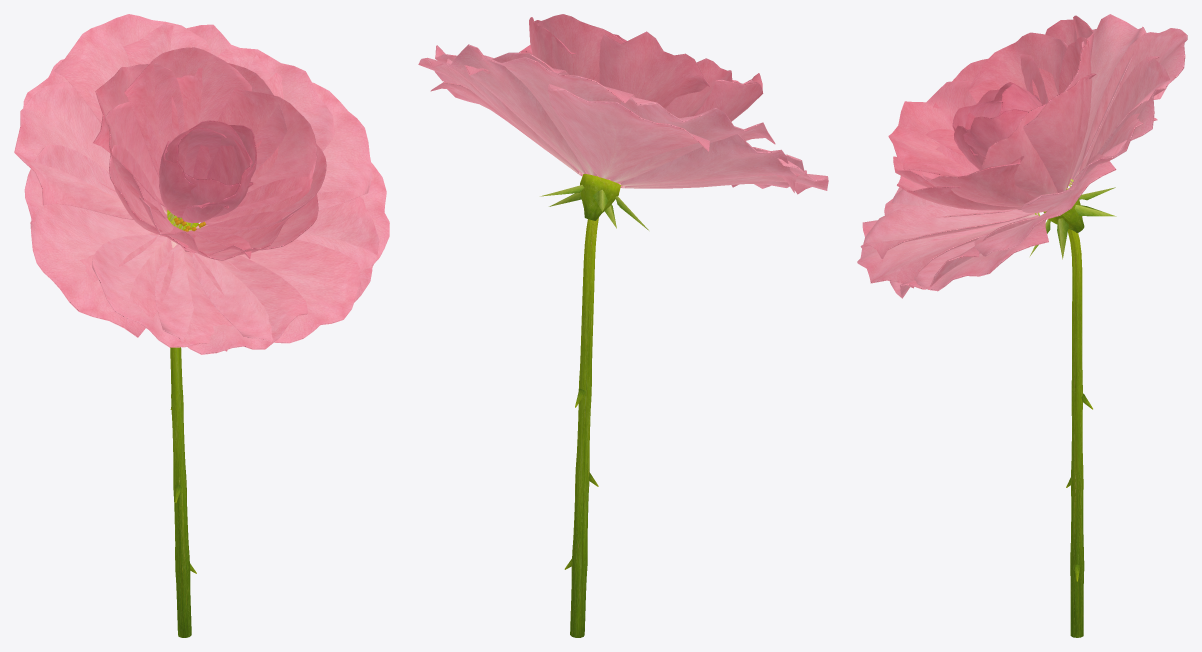
Rendered from rose_29.glb.
3 renders of one model, left to right at view 1: azimuth 30°, elevation 25°; view 2: azimuth 150°, elevation 25°; view 3: azimuth 270°, elevation 25°, orthographic. The views are drawn at different scales.
Visible parts, largest first — view 1: Petal_7_outer_03, Petal_4_outer_01, Petal_2_outer_02, Petal_6_outer_02, Petal_5_outer_04, Petal_0_outer_01, Petal_17_middle_02, Petal_19_middle_01, Petal_10_outer_01, Stem_Skinned, Petal_20_middle_03, Petal_11_outer_04 (+17 smaller); view 2: Petal_1_outer_03, Stem_Skinned, Petal_20_middle_03, Petal_3_outer_04, Petal_12_outer_02, Petal_2_outer_02, Petal_0_outer_01, Petal_19_middle_01, Hypanthium_and_five_sepals, Petal_22_middle_01, Petal_11_outer_04, Petal_4_outer_01 (+5 smaller); view 3: Petal_7_outer_03, Stem_Skinned, Petal_13_middle_03, Petal_18_middle_04, Petal_0_outer_01, Petal_21_middle_02, Petal_12_outer_02, Petal_2_outer_02, Petal_17_middle_02, Petal_16_middle_04, Petal_9_outer_03, Petal_10_outer_01 (+13 smaller).
Part boxes in pixels (x1,y1,x2,y2): Petal_7_outer_03: (192,239,360,343); Petal_4_outer_01: (30,201,173,337); Petal_2_outer_02: (14,81,133,219); Petal_6_outer_02: (154,244,308,354); Petal_5_outer_04: (92,234,231,351); Petal_0_outer_01: (54,14,211,123); Petal_17_middle_02: (218,88,317,212); Petal_19_middle_01: (124,47,251,177); Petal_10_outer_01: (265,72,372,210); Stem_Skinned: (170,217,196,637); Petal_20_middle_03: (93,63,184,206); Petal_11_outer_04: (217,48,334,150); Petal_1_outer_03: (548,84,709,179); Stem_Skinned: (564,217,598,637); Petal_20_middle_03: (599,31,709,108); Petal_3_outer_04: (620,134,800,192); Petal_12_outer_02: (446,44,586,173); Petal_2_outer_02: (610,97,775,183); Petal_0_outer_01: (479,55,635,175); Petal_19_middle_01: (537,14,624,82); Hypanthium_and_five_sepals: (540,174,648,230); Petal_22_middle_01: (694,79,763,121); Petal_11_outer_04: (435,45,578,173); Petal_4_outer_01: (626,147,828,194); Petal_7_outer_03: (857,204,1038,288); Stem_Skinned: (1066,229,1092,637); Petal_13_middle_03: (888,80,976,176); Petal_18_middle_04: (1023,73,1096,192); Petal_0_outer_01: (1079,28,1187,172); Petal_21_middle_02: (968,32,1073,103); Petal_12_outer_02: (1071,56,1169,185); Petal_2_outer_02: (1069,14,1146,184); Petal_17_middle_02: (980,103,1057,197); Petal_16_middle_04: (922,156,1035,207); Petal_9_outer_03: (914,207,1053,291); Petal_10_outer_01: (974,154,1116,256).
Bounding box in the file's own units: 0.2046 × 0.3301 × 0.1679.
Materials: 7 (7 with a texture image).
